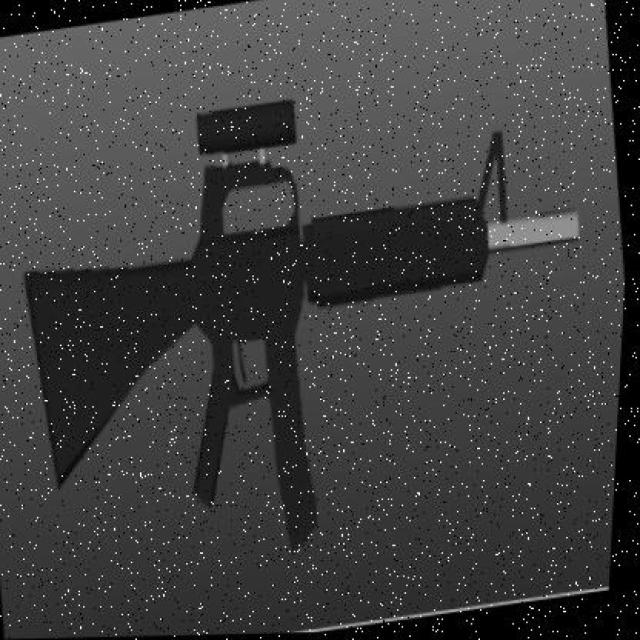weapon: (19, 96, 584, 556)
